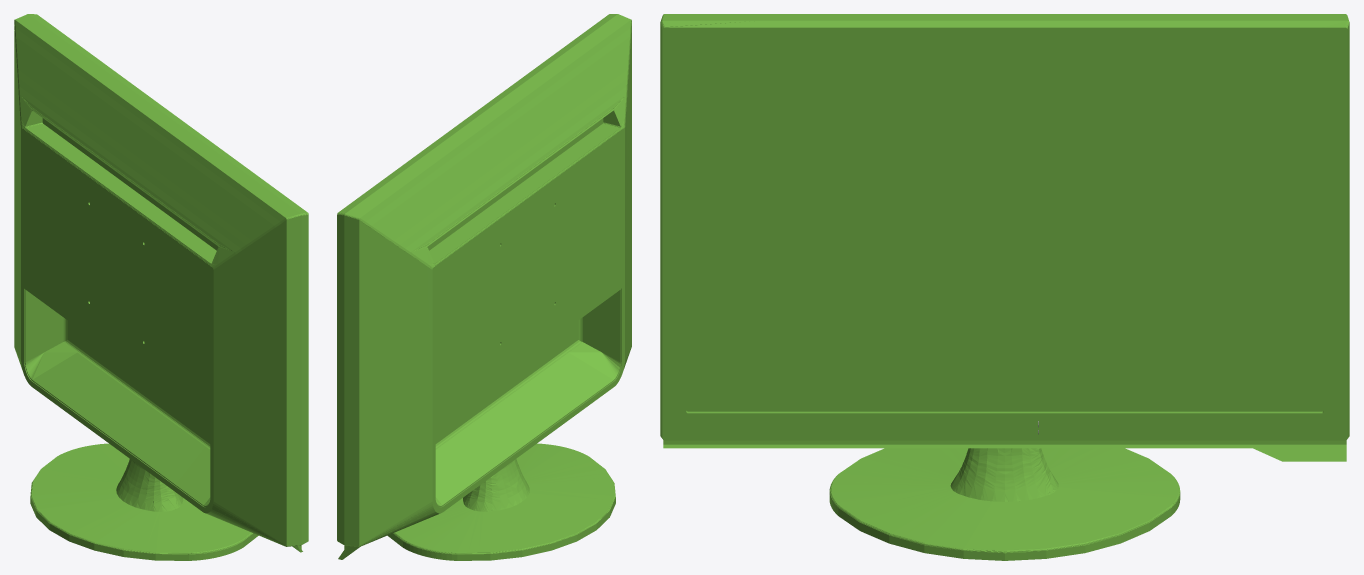
The model's file is monitor.dae.
3 renders of one model, left to right at view 1: azimuth 30°, elevation 25°; view 2: azimuth 150°, elevation 25°; view 3: azimuth 270°, elevation 25°, orthographic. The views are drawn at different scales.
Visible parts, largest first — view 1: node; view 2: node; view 3: node.
Boxes of the visible parts, x1,y1,x2,y2 form: node: [14, 14, 308, 560]; node: [337, 14, 631, 560]; node: [660, 14, 1349, 560].
Bounding box in the file's own units: 0.0634 × 0.1172 × 0.15.
